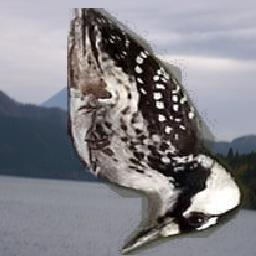Woodpecker: (67, 9, 249, 256)
